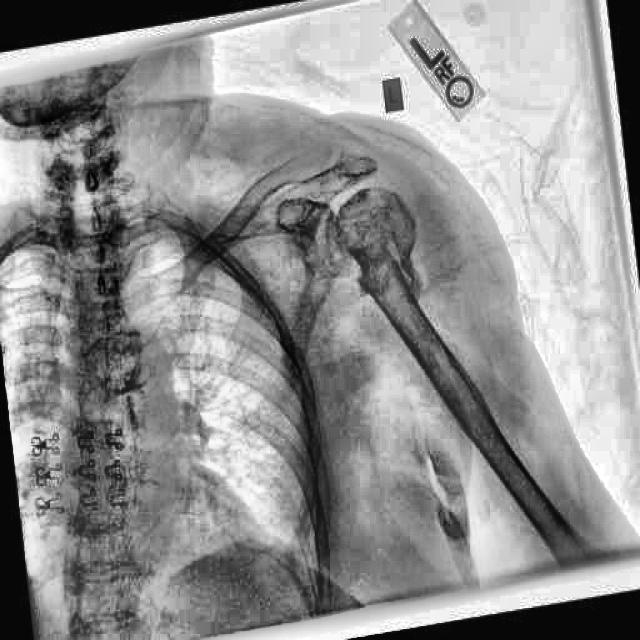shoulder fracture: (343, 176, 451, 354)
